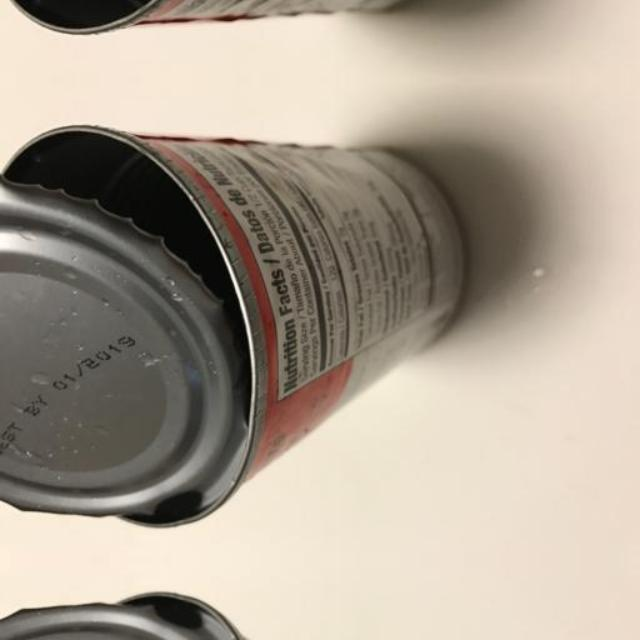Metal: (0, 100, 474, 530), (0, 0, 474, 59), (0, 590, 474, 640)
